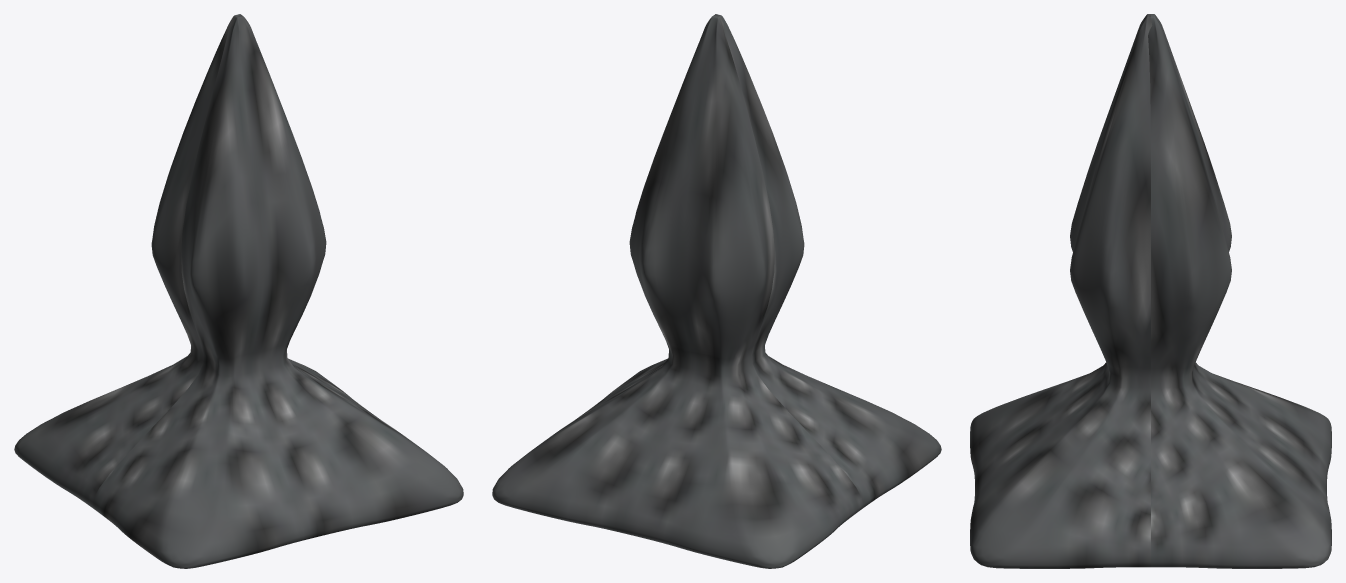
3 views of the same model, side by side, from view 1: azimuth 30°, elevation 25°; view 2: azimuth 150°, elevation 25°; view 3: azimuth 270°, elevation 25° (orthographic). The views are drawn at different scales.
Visible parts, largest first — view 1: Base; view 2: Base; view 3: Base.
Boxes of the visible parts, bbox=[...] form: Base: bbox=[14, 14, 463, 568]; Base: bbox=[492, 14, 941, 568]; Base: bbox=[970, 14, 1331, 568].
Bounding box in the file's own units: 1.12 × 1.12 × 1.64.
Materials: 1 (1 with a texture image).
